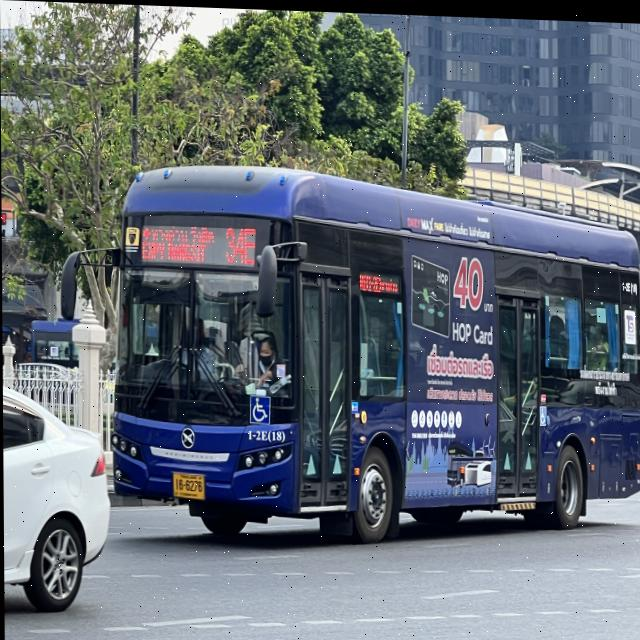Bus Line Number: (223, 219, 259, 272)
Bus Side Number: (244, 423, 286, 443)
Destination Sign: (137, 220, 218, 267)
TSB-Bus: (103, 164, 640, 542)
